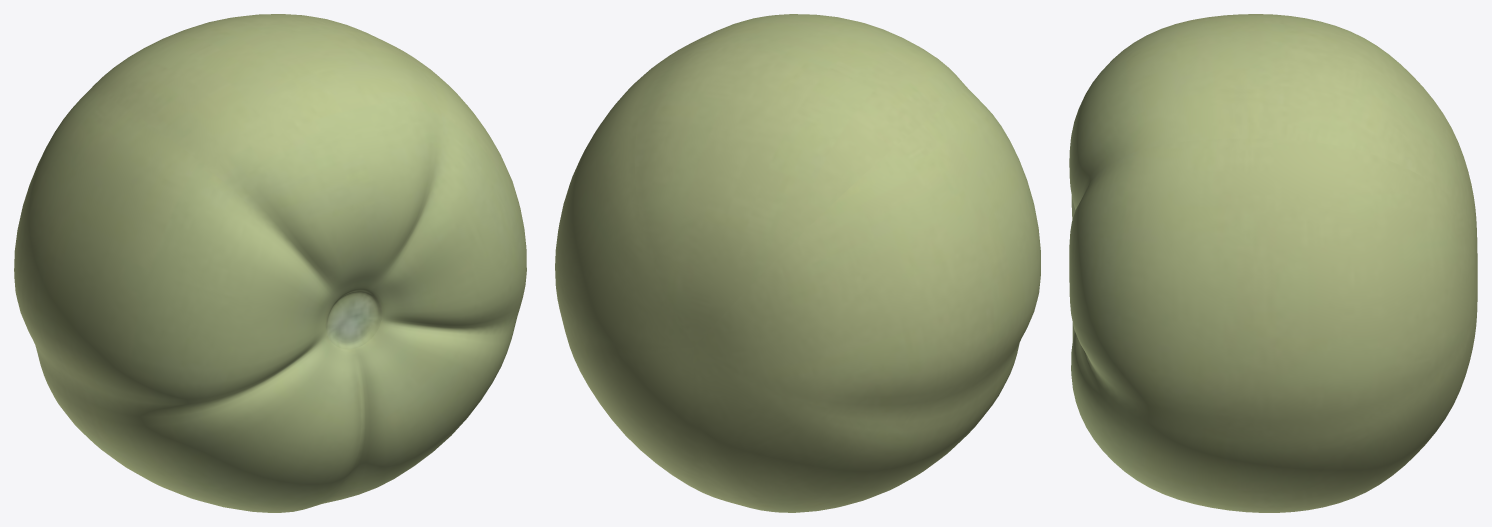
File: GreenTomatoFlesh.obj
3 views of the same model, side by side, from view 1: azimuth 30°, elevation 25°; view 2: azimuth 150°, elevation 25°; view 3: azimuth 270°, elevation 25° (orthographic). The views are drawn at different scales.
Visible parts, largest first — view 1: GreenTomatoFlesh; view 2: GreenTomatoFlesh; view 3: GreenTomatoFlesh.
Boxes of the visible parts, x1,y1,x2,y2 form: GreenTomatoFlesh: (14,14,526,512); GreenTomatoFlesh: (555,14,1040,512); GreenTomatoFlesh: (1069,14,1477,512).
Bounding box in the file's own units: 0.0968 × 0.0964 × 0.0794.
Materials: 1 (1 with a texture image).
